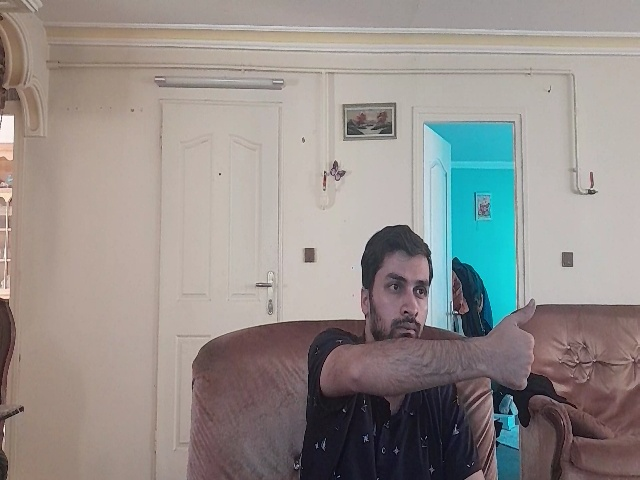ThumbsUp: (475, 297, 537, 391)
